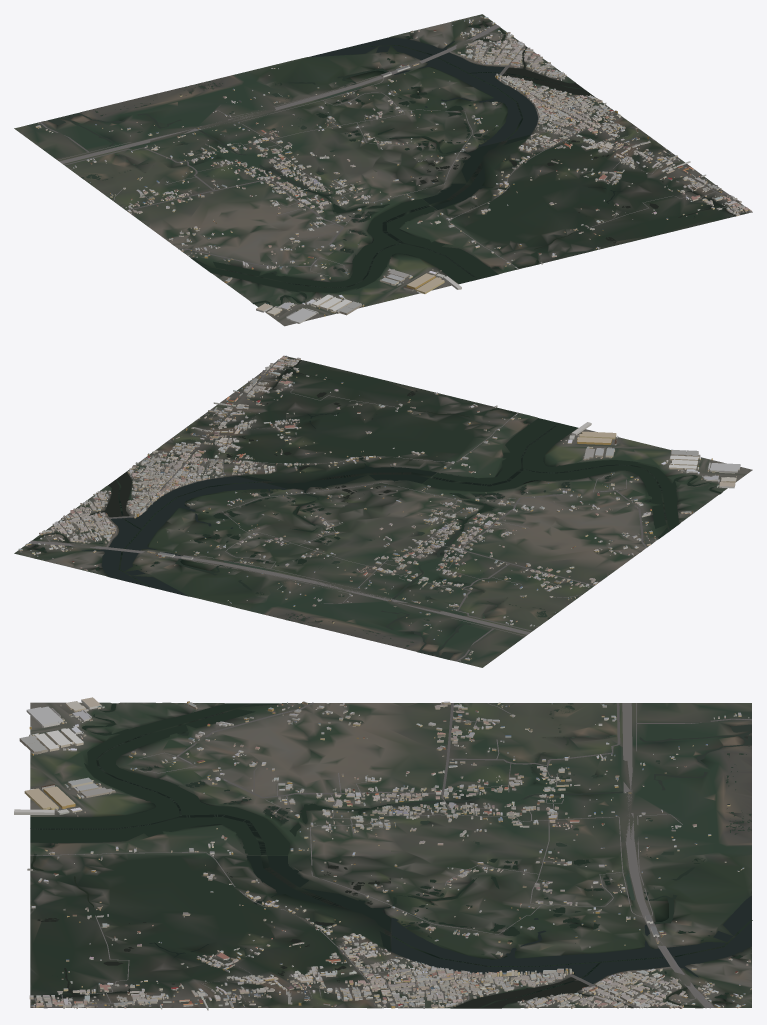
3 renders of one model, top to bottom at view 1: azimuth 30°, elevation 25°; view 2: azimuth 150°, elevation 25°; view 3: azimuth 270°, elevation 25°, orthographic. The views are drawn at different scales.
Parts seen in each view (by area): view 1: ground, water, buildings, roads; view 2: ground, water, buildings, roads; view 3: ground, water, buildings, roads.
Boxes of the visible parts, bbox=[...] form: ground: bbox=[14, 14, 752, 326]; water: bbox=[47, 21, 735, 304]; buildings: bbox=[35, 16, 751, 323]; roads: bbox=[39, 24, 748, 283]; ground: bbox=[14, 356, 752, 667]; water: bbox=[27, 360, 721, 659]; buildings: bbox=[18, 355, 740, 661]; roads: bbox=[28, 358, 693, 661]; ground: bbox=[30, 702, 751, 1008]; water: bbox=[30, 703, 752, 1008]; buildings: bbox=[14, 697, 751, 1010]; roads: bbox=[30, 702, 751, 1008].
Size of the model in its own units: 2856 by 26.43 by 2868.
